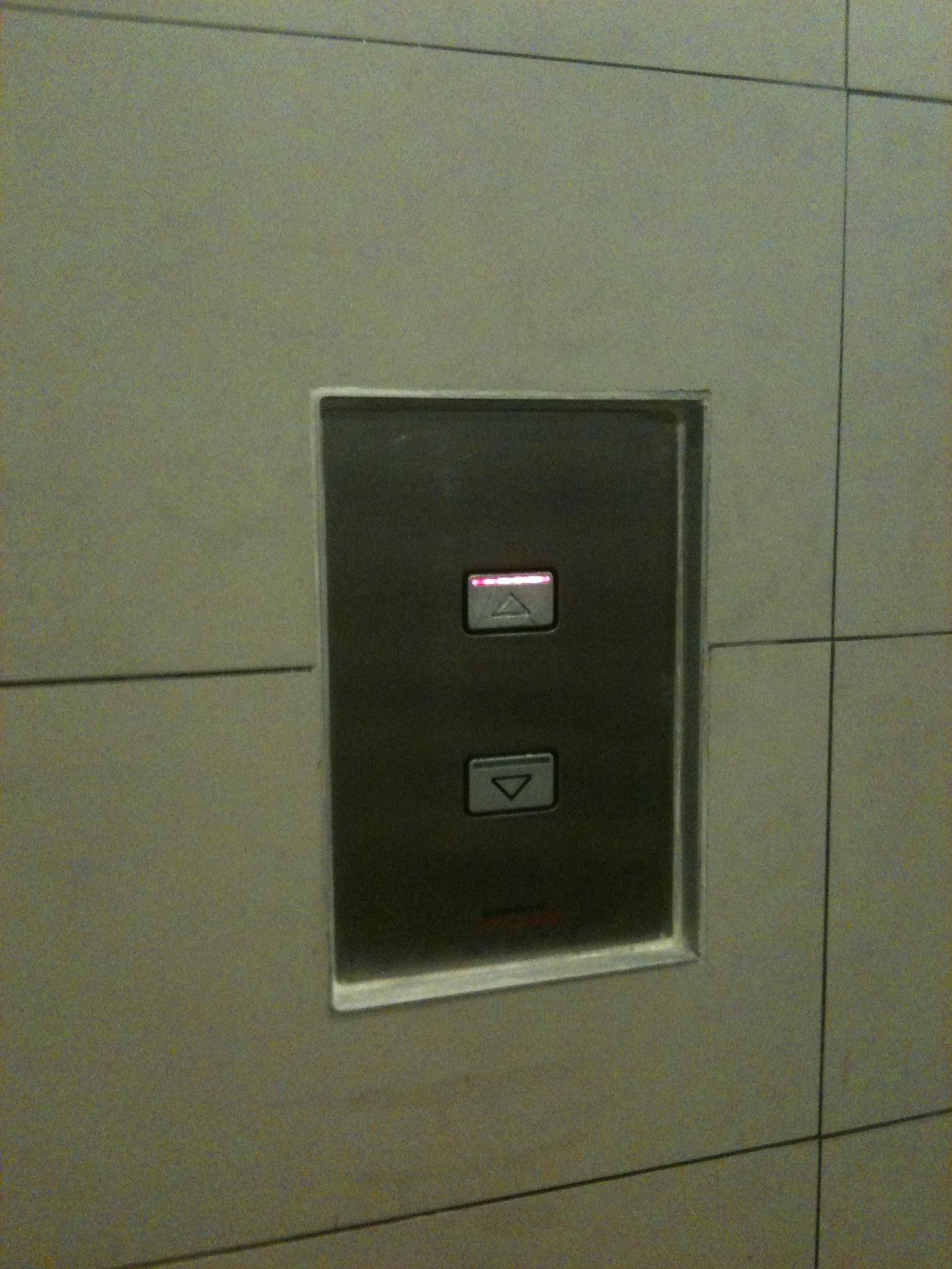down: (463, 745, 560, 822)
up: (457, 563, 560, 639)
